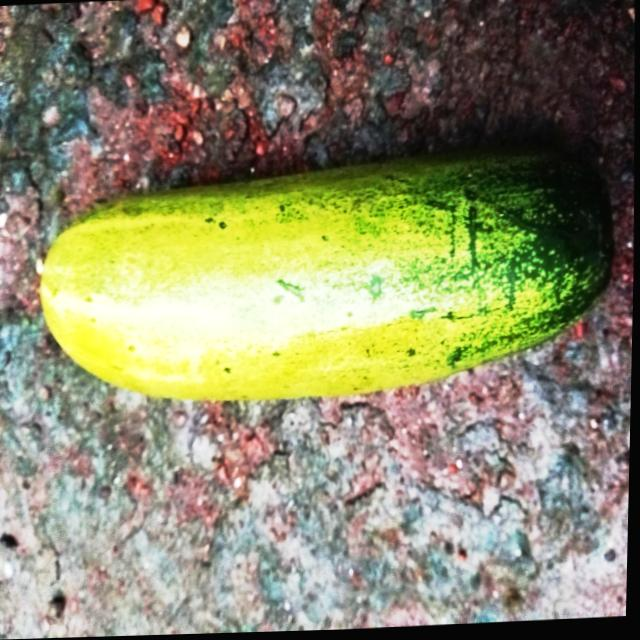Fresh-Cucumber: (35, 139, 623, 419)
